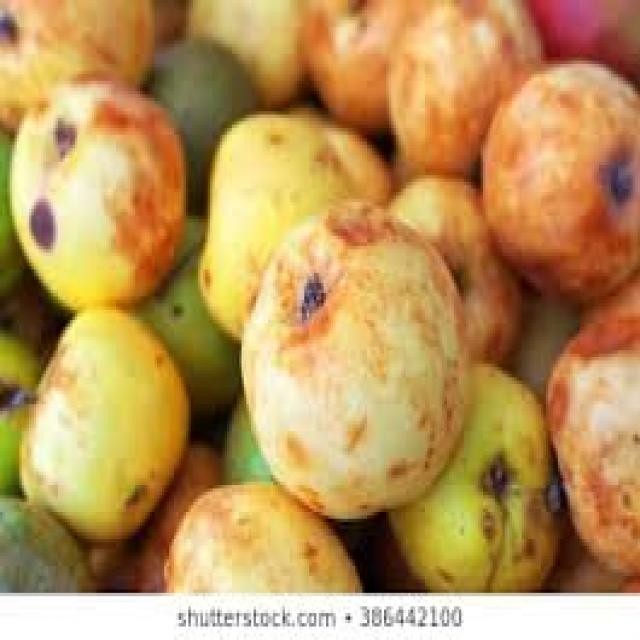organic waste: (0, 0, 637, 589), (239, 198, 466, 518), (5, 67, 186, 310), (10, 303, 186, 542), (381, 360, 558, 590), (478, 54, 638, 303), (196, 108, 360, 337), (377, 172, 524, 367), (544, 290, 638, 576), (383, 0, 543, 168), (222, 380, 370, 556), (160, 472, 362, 590), (128, 209, 239, 418), (84, 438, 220, 589), (0, 0, 152, 128), (145, 41, 258, 206), (302, 0, 406, 128), (183, 0, 306, 104), (283, 101, 391, 212), (524, 0, 638, 91), (0, 491, 101, 586), (0, 320, 39, 502), (538, 522, 638, 586), (0, 124, 19, 296), (150, 0, 186, 40)
